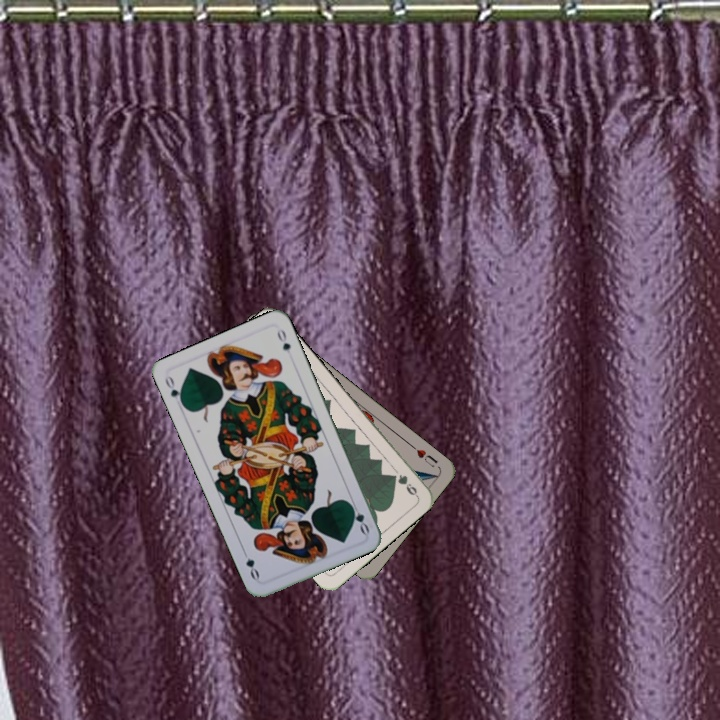G9: (393, 470, 420, 499)
GO: (345, 497, 372, 537), (161, 372, 187, 410)
HU: (407, 441, 440, 470)
